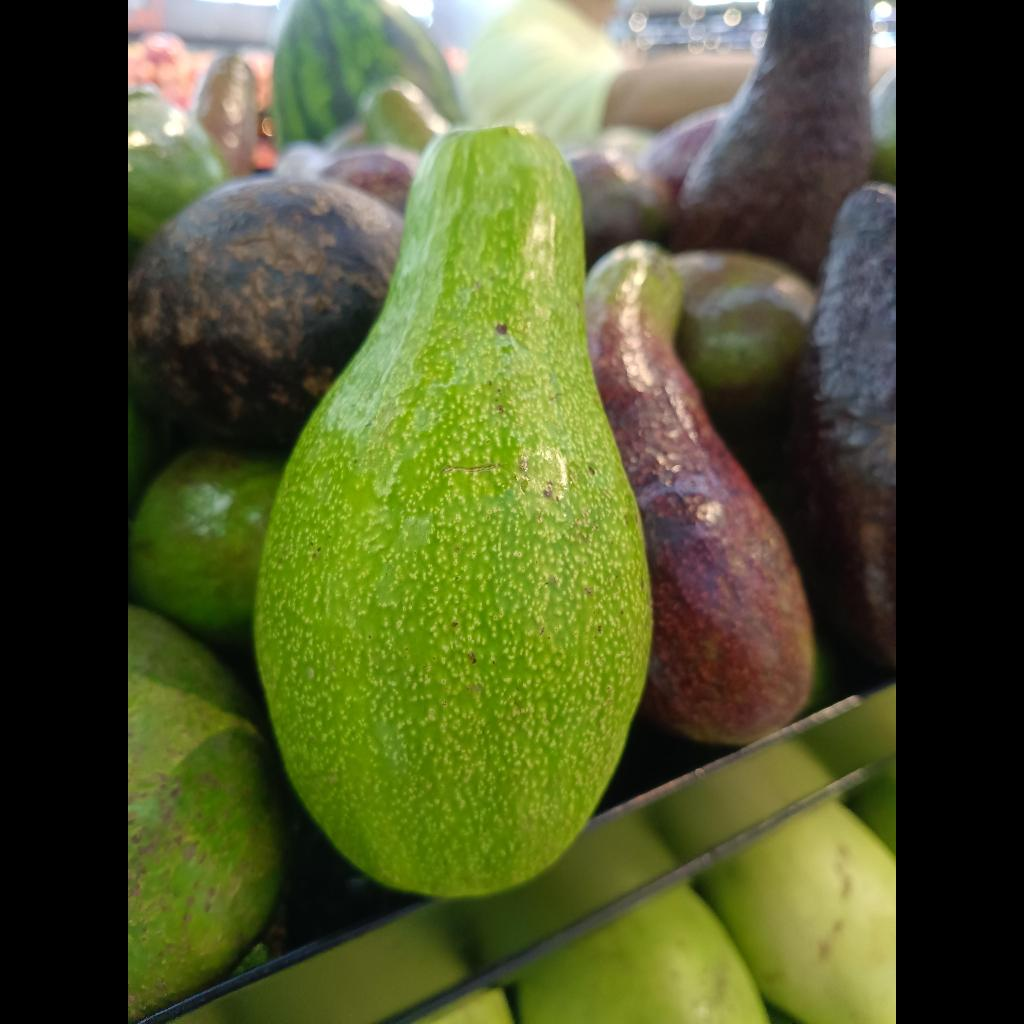healthy: (255, 126, 651, 896)
